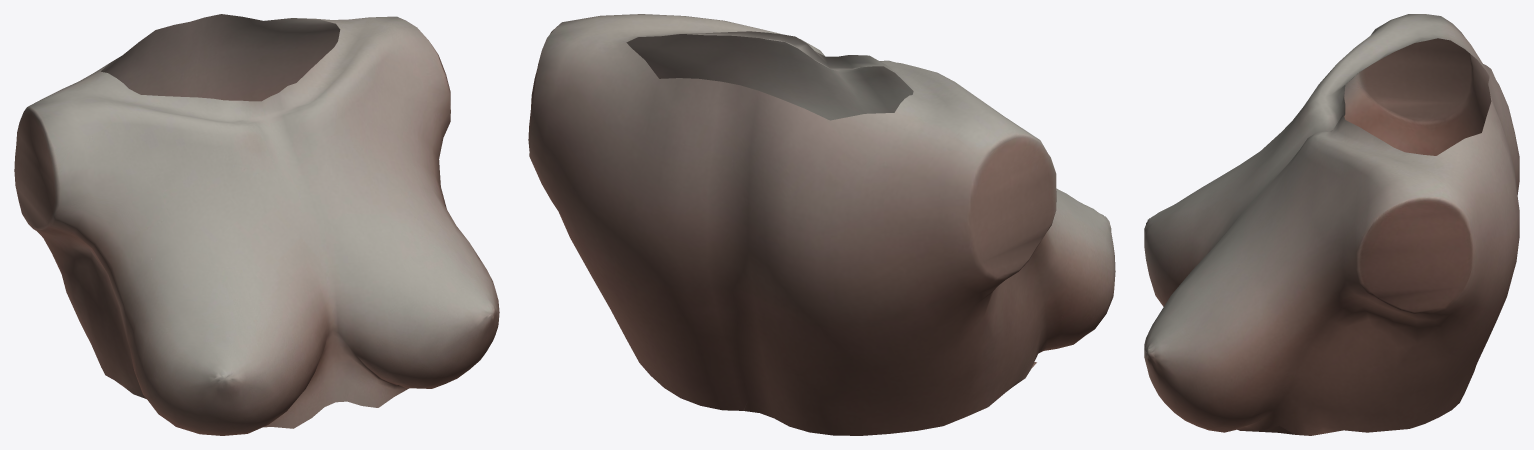
The model's file is upper_body.glb.
3 renders of one model, left to right at view 1: azimuth 30°, elevation 25°; view 2: azimuth 150°, elevation 25°; view 3: azimuth 270°, elevation 25°, orthographic. The views are drawn at different scales.
Visible parts, largest first — view 1: bodyv3; view 2: bodyv3; view 3: bodyv3.
Part boxes in pixels (x1,y1,x2,y2): bodyv3: (14,14,499,435); bodyv3: (528,14,1115,435); bodyv3: (1144,14,1519,435).
Size of the model in its own units: 0.3155 by 0.2203 by 0.2556.
1 material, 1 textured.
